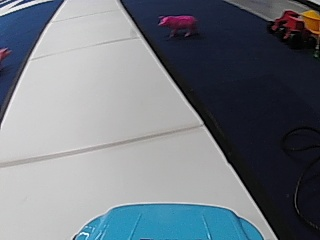granary: (299, 10, 319, 32)
pig: (155, 11, 198, 39)
tractor: (269, 8, 312, 50)
